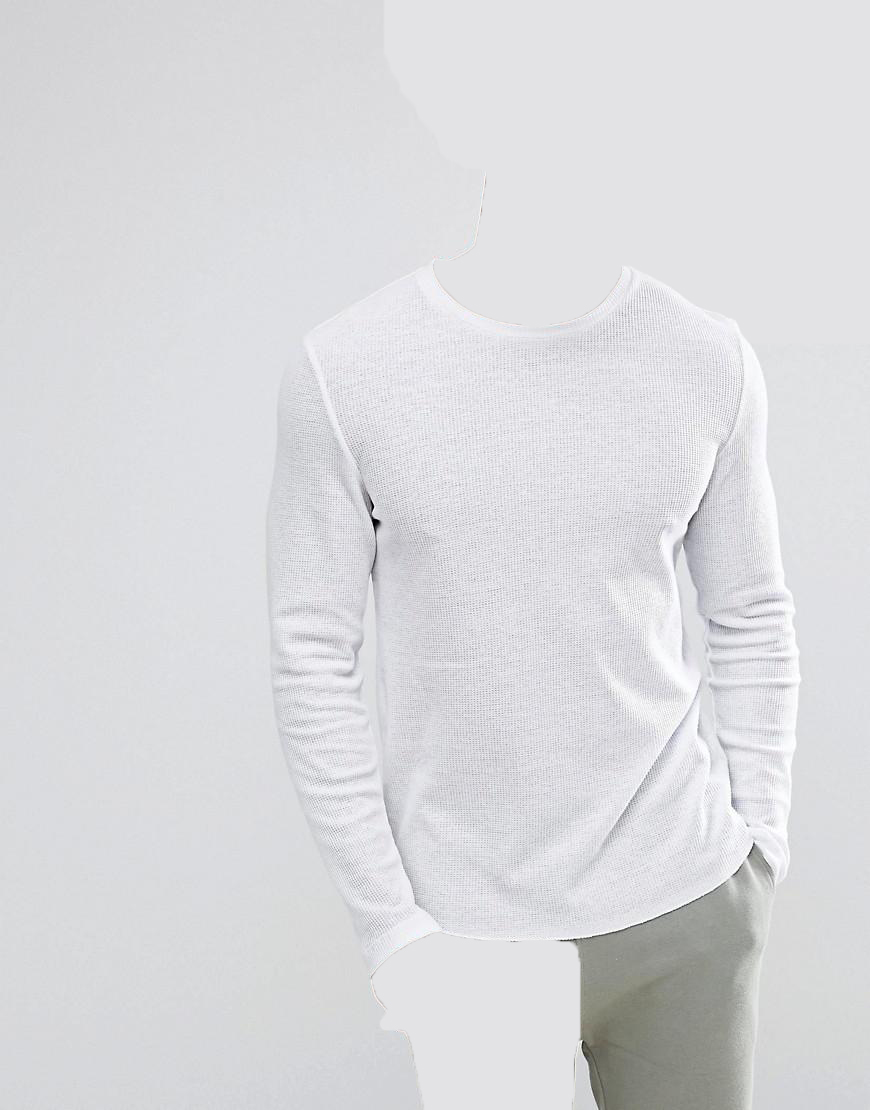teeshirt: (268, 257, 796, 973)
